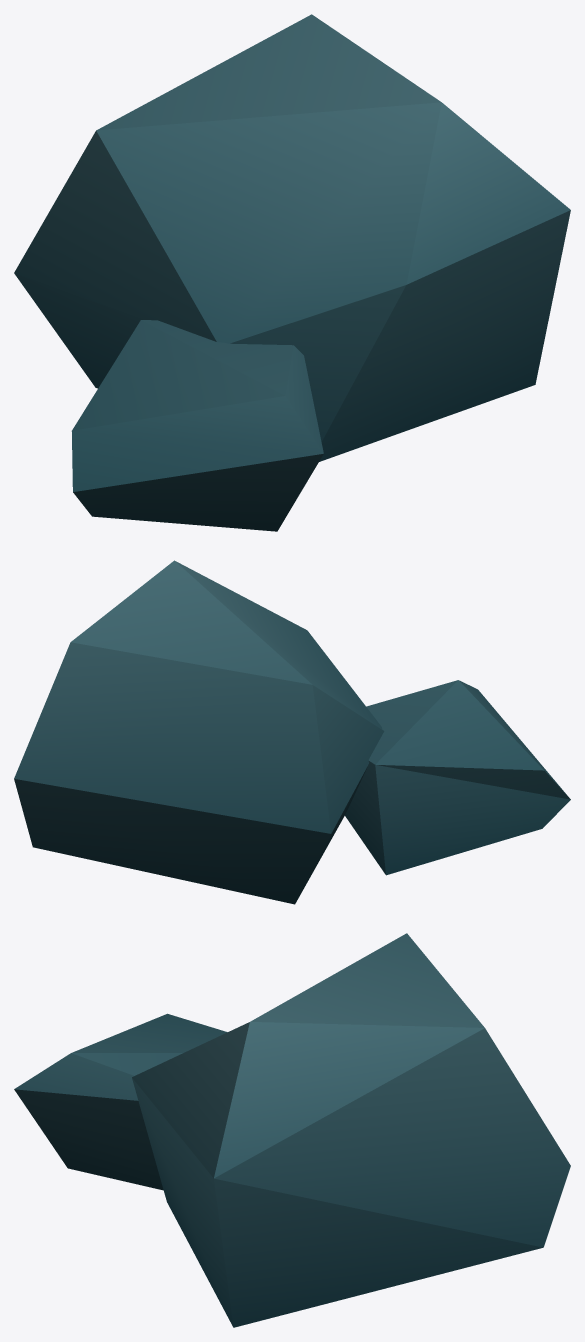
File: stone_small_1.fbx
The picture shows the model from 3 angles, top to bottom: view 1: azimuth 30°, elevation 25°; view 2: azimuth 150°, elevation 25°; view 3: azimuth 270°, elevation 25°; orthographic projection. The views are drawn at different scales.
Parts seen in each view (by area): view 1: stone_small_1; view 2: stone_small_1; view 3: stone_small_1.
Part boxes in pixels (<box>): stone_small_1: <box>14,14,570,531</box>; stone_small_1: <box>14,560,570,904</box>; stone_small_1: <box>14,933,570,1327</box>.
Bounding box in the file's own units: 0.5347 × 0.2802 × 0.5265.
